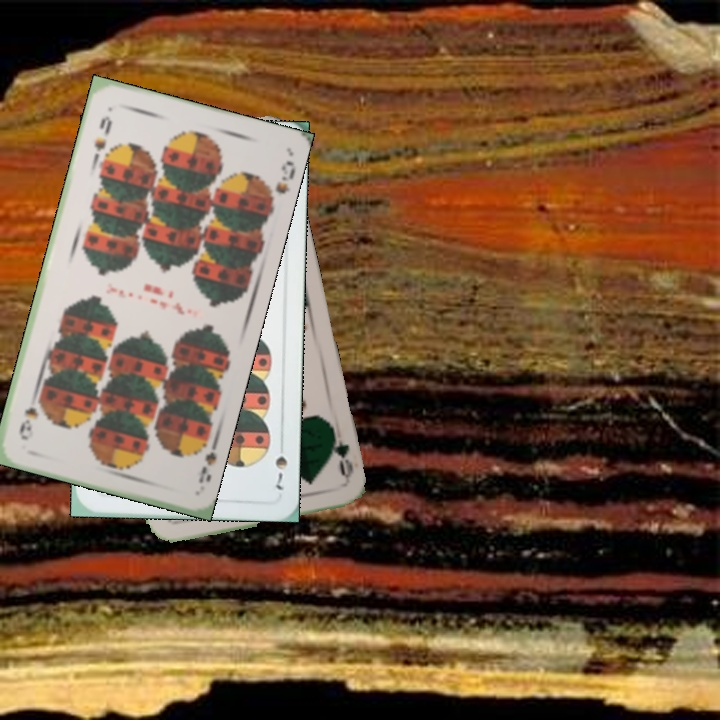GO: (325, 422, 356, 480)
S7: (271, 451, 290, 492)
S9: (191, 432, 221, 486), (90, 111, 115, 164)
